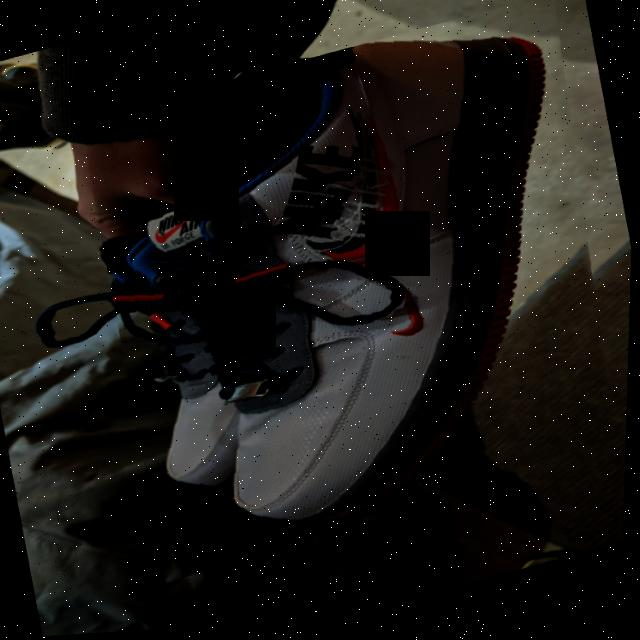shoe: (69, 0, 639, 590)
